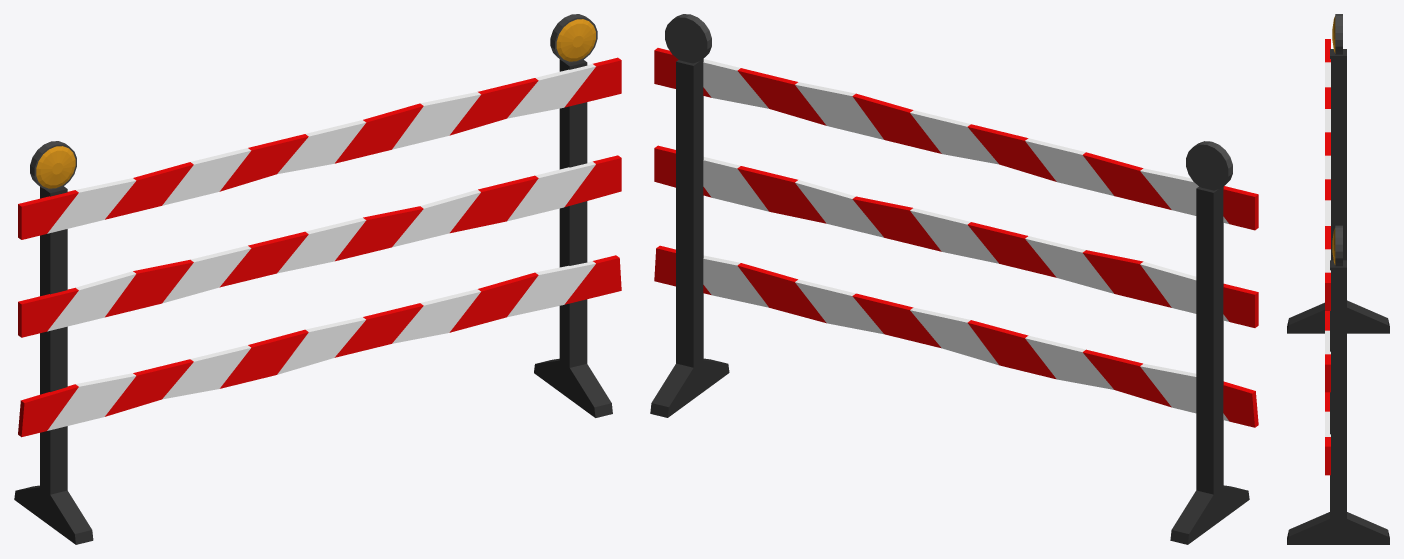
Rendered from safety barrier.glb.
3 views of the same model, side by side, from view 1: azimuth 30°, elevation 25°; view 2: azimuth 150°, elevation 25°; view 3: azimuth 270°, elevation 25° (orthographic). The views are drawn at different scales.
Visible parts, largest first — view 1: warning barrier; view 2: warning barrier; view 3: warning barrier.
Part boxes in pixels (left/top/right/bottom): warning barrier: left=14, top=14, right=621, bottom=544; warning barrier: left=650, top=14, right=1258, bottom=544; warning barrier: left=1287, top=14, right=1389, bottom=544.
Size of the model in its own units: 1.9 by 1.14 by 0.3382.
Materials: 1 (1 with a texture image).
